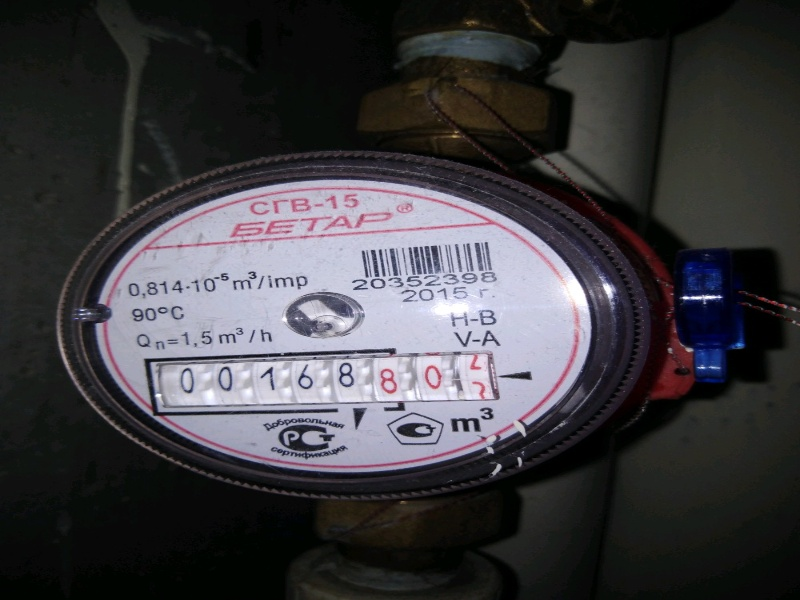meter: (151, 360, 500, 406)
